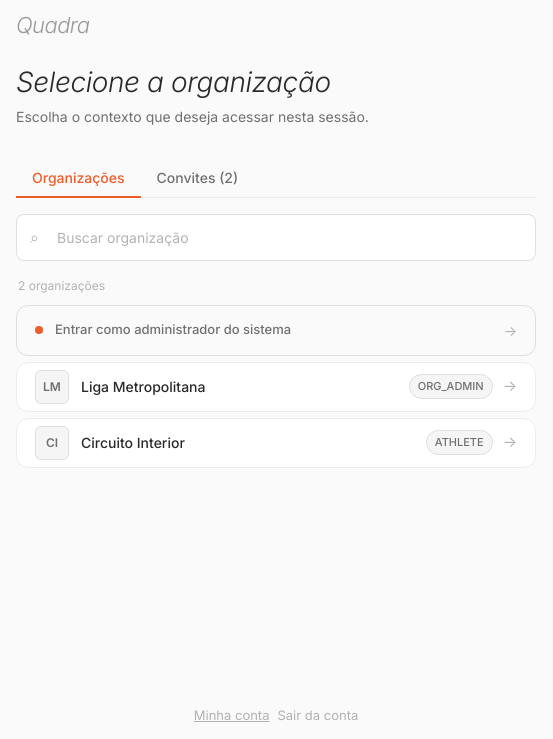
Test: OrgSelectionPage › accepts an invite, refreshes organizations, and stays on select-org
Click the tab "Convites (2)" at (197, 178), box x1=140 y1=159 x2=254 y2=198
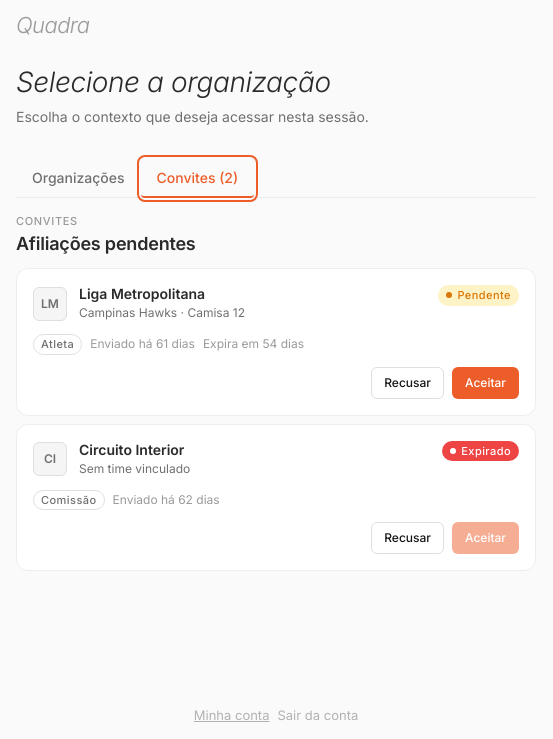
Click the button "Aceitar" below "Enviado há 61 dias" at (486, 383), box x1=452 y1=367 x2=519 y2=399
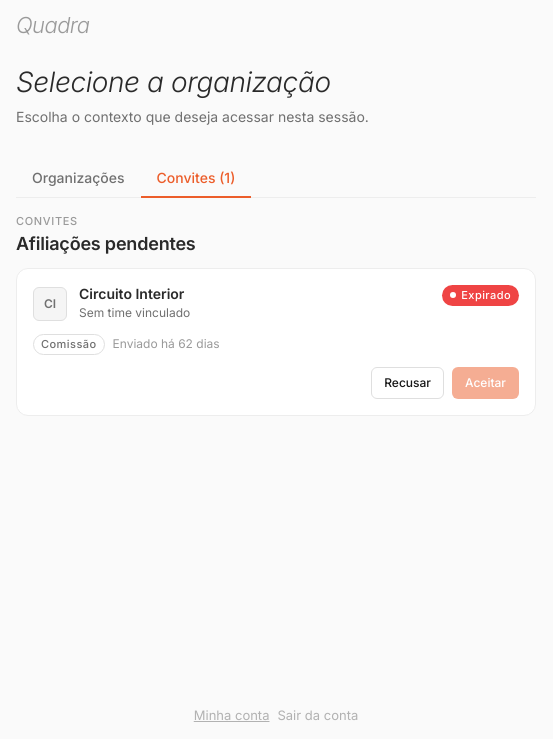
Expected: the heading "Liga Metropolitana" is gone
